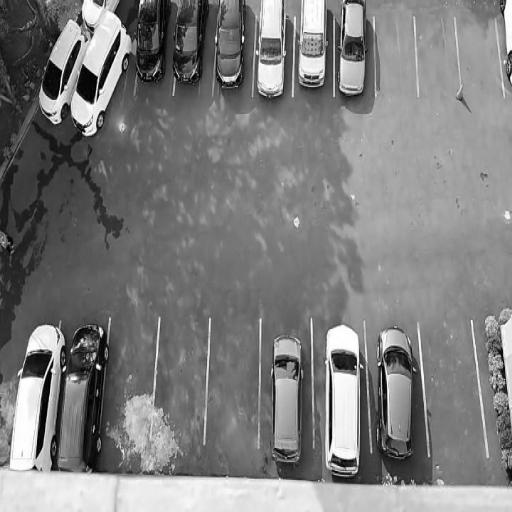Car: (64, 5, 136, 145), (6, 316, 68, 469), (52, 320, 111, 473), (28, 11, 93, 132), (320, 316, 366, 478), (372, 314, 418, 466), (264, 326, 310, 467), (293, 0, 331, 99), (254, 0, 291, 99), (170, 0, 209, 92), (334, 0, 368, 104), (212, 0, 247, 97), (132, 0, 168, 84), (76, 0, 121, 36)
Space Available: (418, 319, 488, 456), (150, 317, 210, 444), (100, 317, 160, 438), (205, 318, 259, 446), (414, 14, 462, 94), (456, 17, 504, 95), (373, 15, 419, 95)
